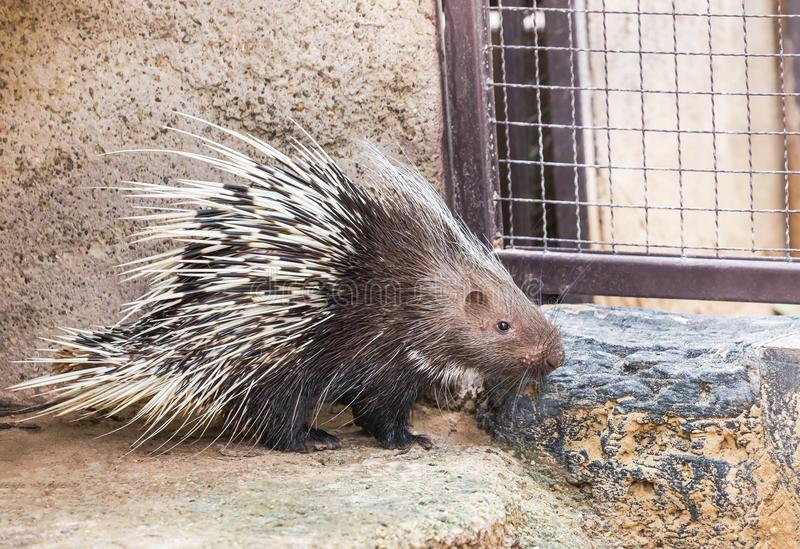porcupine: (30, 106, 614, 465)
